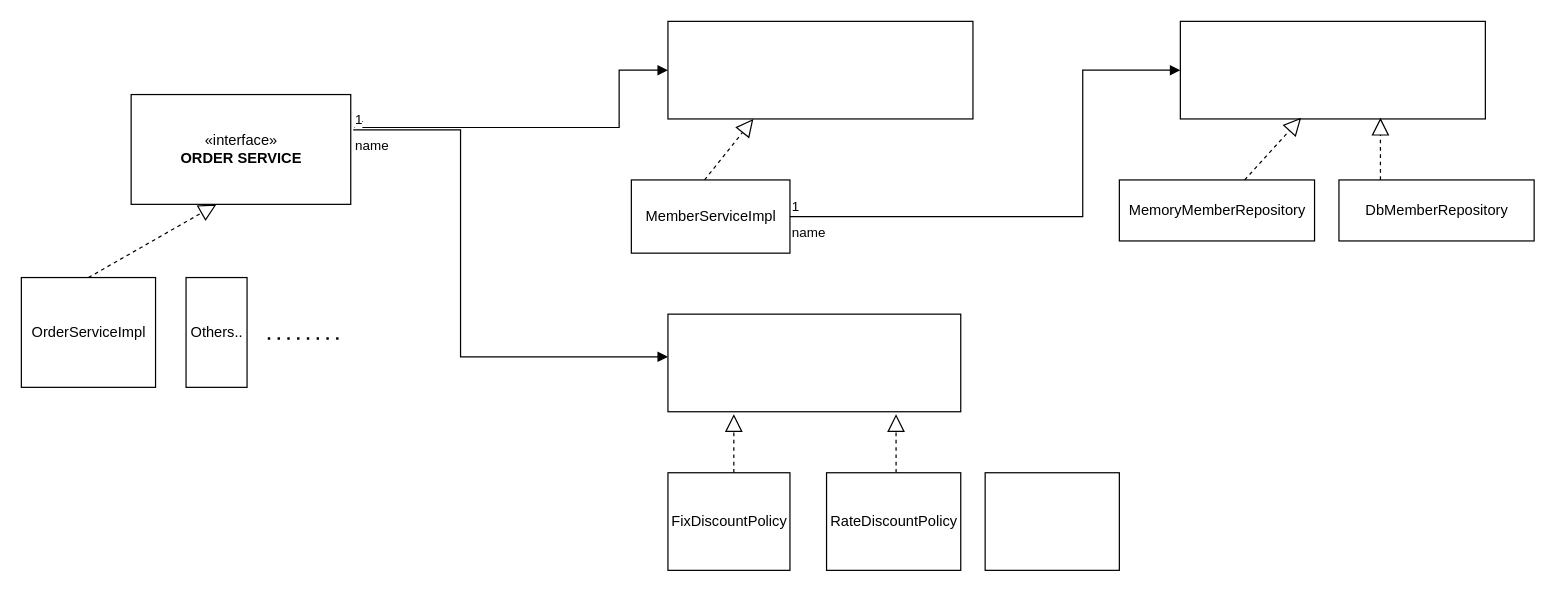
Some shapes in this 1556 by 592 pixel diagram are drawn without their labels. Each missing label, with the centre of its shape:
"Others...." belongs at [1051,521].
"«interface» DISCOUNT POLICY" belongs at [814,362].
"«interface» MEMBER REPOSITORY" belongs at [1332,69].
"«interface» MEMBER SERVICE" belongs at [820,69].
